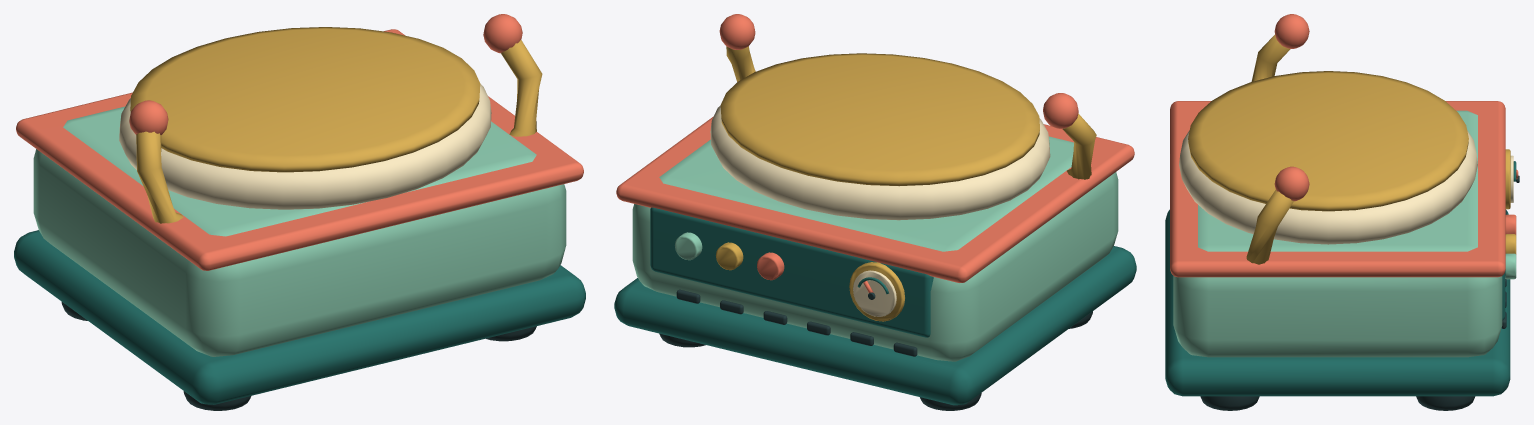
The model's file is GrowerBase.fbx.
3 renders of one model, left to right at view 1: azimuth 30°, elevation 25°; view 2: azimuth 150°, elevation 25°; view 3: azimuth 270°, elevation 25°, orthographic. The views are drawn at different scales.
Parts seen in each view (by area): view 1: GrowerBase_Visual; view 2: GrowerBase_Visual; view 3: GrowerBase_Visual.
Boxes of the visible parts, x1,y1,x2,y2 form: GrowerBase_Visual: (14,14,585,410); GrowerBase_Visual: (614,14,1136,410); GrowerBase_Visual: (1165,14,1519,410).
Bounding box in the file's own units: 1.52 × 1 × 1.31.
